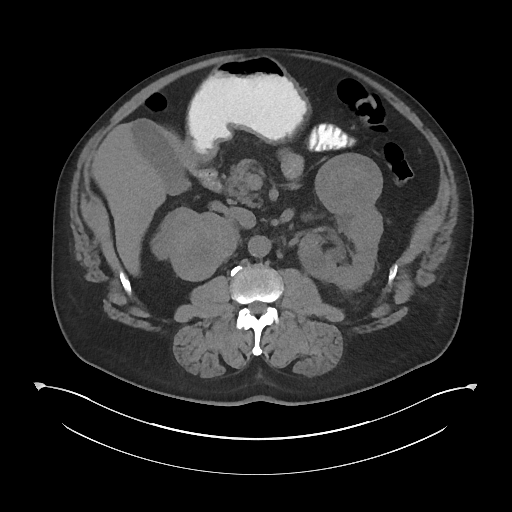Lesion: (312, 155, 385, 215)
